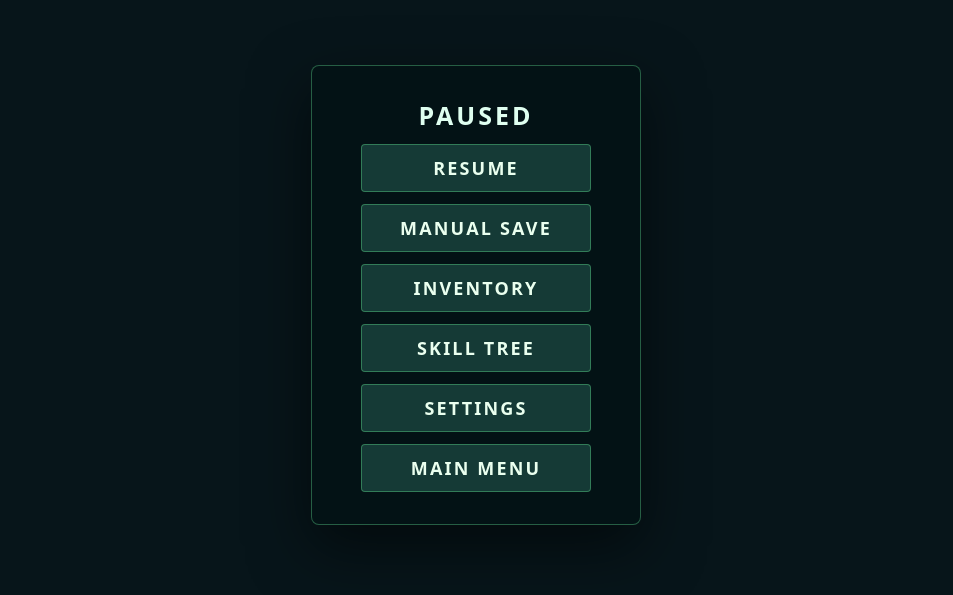
Test: React game UI › opens the skill tree from pause and displays costs, requirements, points, and unlock state
Step 1. Click the button "Skill Tree" → (476, 348), box [361,324,591,372]
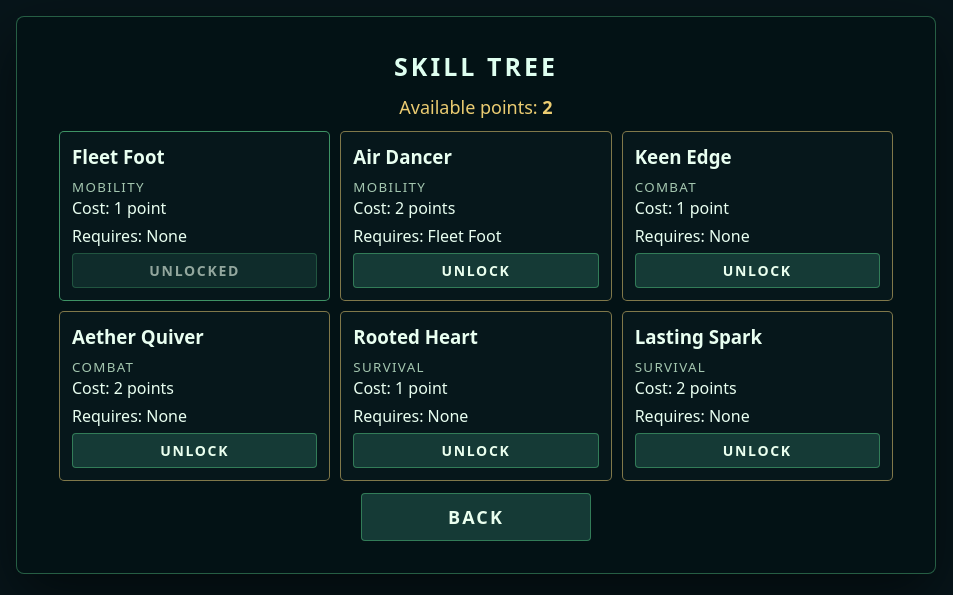
Expected: the heading "SKILL TREE" is shown, [394,49,558,83]
Expected: the text "Available points: 2" is shown, [399,95,553,119]
Step 2. Click the button "Unlock" below "Air Dancer" → (476, 270), box [353,253,599,288]
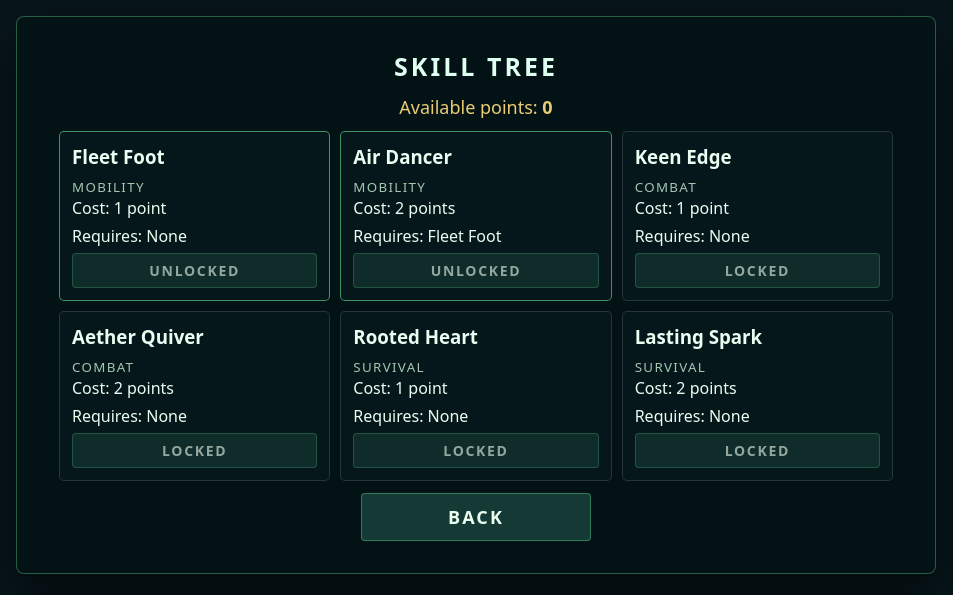
Expected: the text "Available points: 0" is shown, [399,95,553,119]
